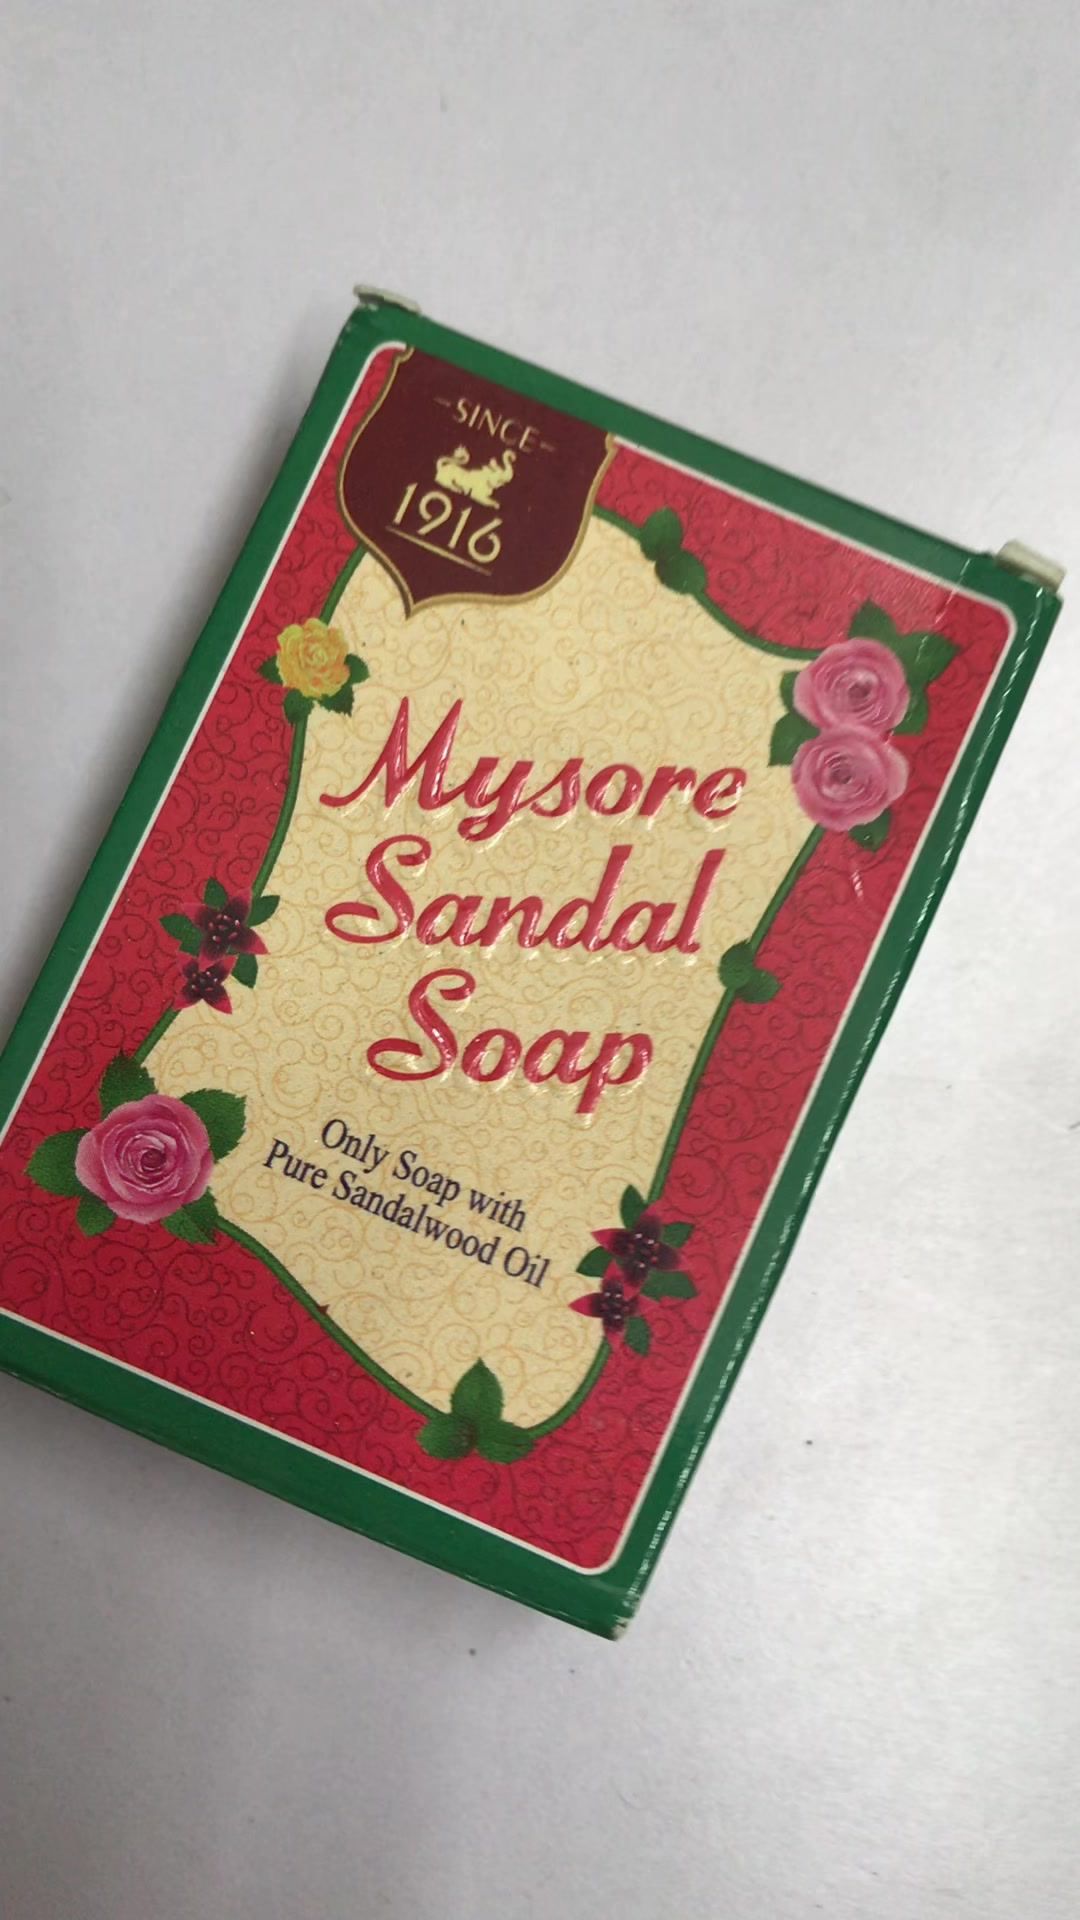mysore sandal soap: (9, 290, 1065, 1636)
